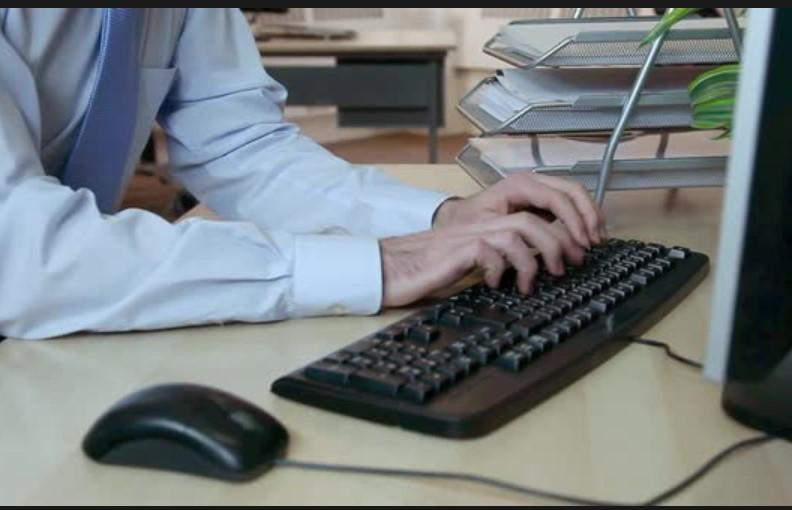Keyboard: (273, 239, 710, 442)
